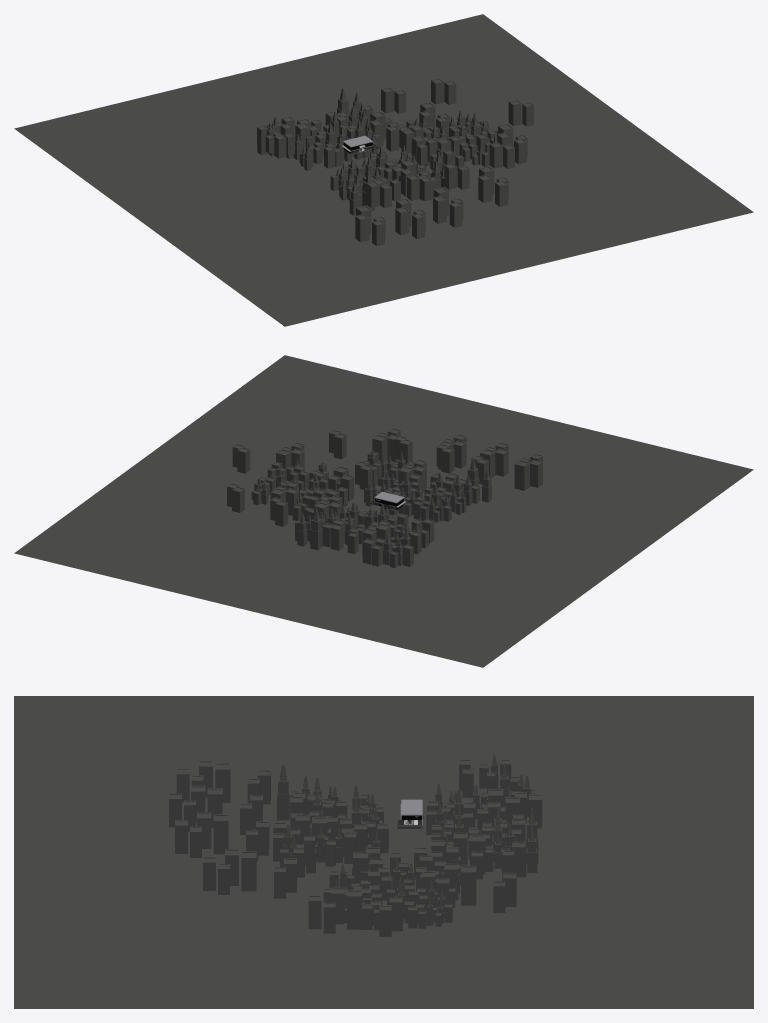
File: vr-apartment.glb
The picture shows the model from 3 angles, top to bottom: view 1: azimuth 30°, elevation 25°; view 2: azimuth 150°, elevation 25°; view 3: azimuth 270°, elevation 25°; orthographic projection. The views are drawn at different scales.
Parts seen in each view (by area): view 1: Plane.001; view 2: Plane.001; view 3: Plane.001, Cube.293, Cube.272, Cube.296, Cube.284, Cube.216, Cube.308.
Boxes of the visible parts, left/top/right/bottom form: Plane.001: left=14, top=14, right=753, bottom=326; Plane.001: left=14, top=355, right=753, bottom=667; Plane.001: left=14, top=696, right=753, bottom=1008; Cube.293: left=241, top=851, right=256, bottom=891; Cube.272: left=461, top=865, right=476, bottom=905; Cube.296: left=213, top=814, right=228, bottom=854; Cube.284: left=347, top=890, right=362, bottom=929; Cube.216: left=277, top=764, right=289, bottom=820; Cube.308: left=215, top=763, right=230, bottom=802.
Size of the model in its own units: 361 by 29.78 by 361.
Materials: 58 (49 with a texture image).
